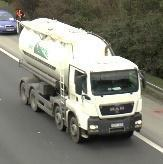Car: (0, 9, 18, 34)
Truck: (14, 17, 145, 142)
